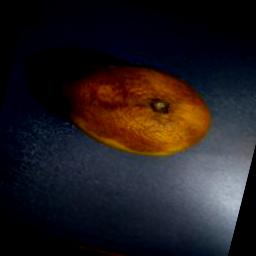Orange Rotten: (40, 36, 220, 191)
